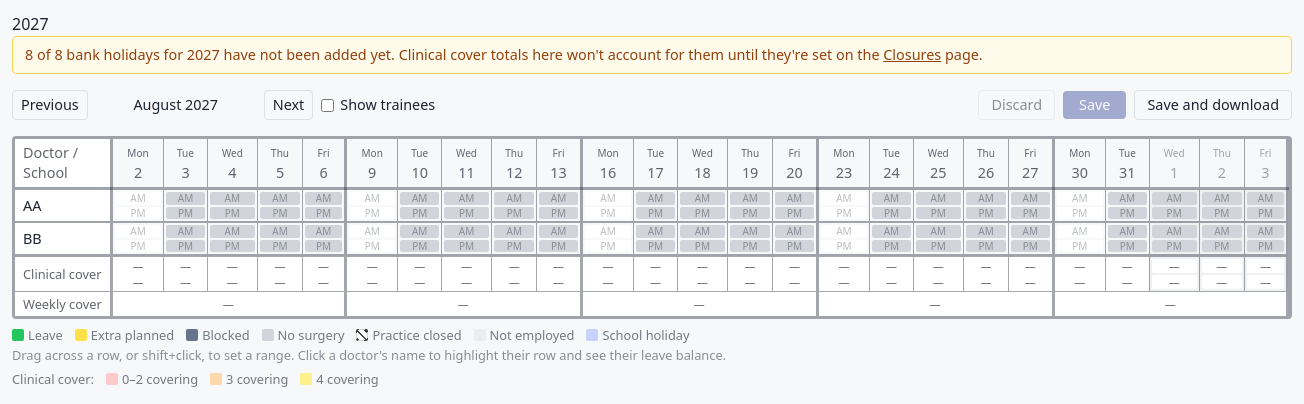
Test case: LeavePlanningPage › the shared session year › moves the shared year when a month step crosses New Year
Step 1. Click the button "Next" → (288, 105), box [264,90,313,120]
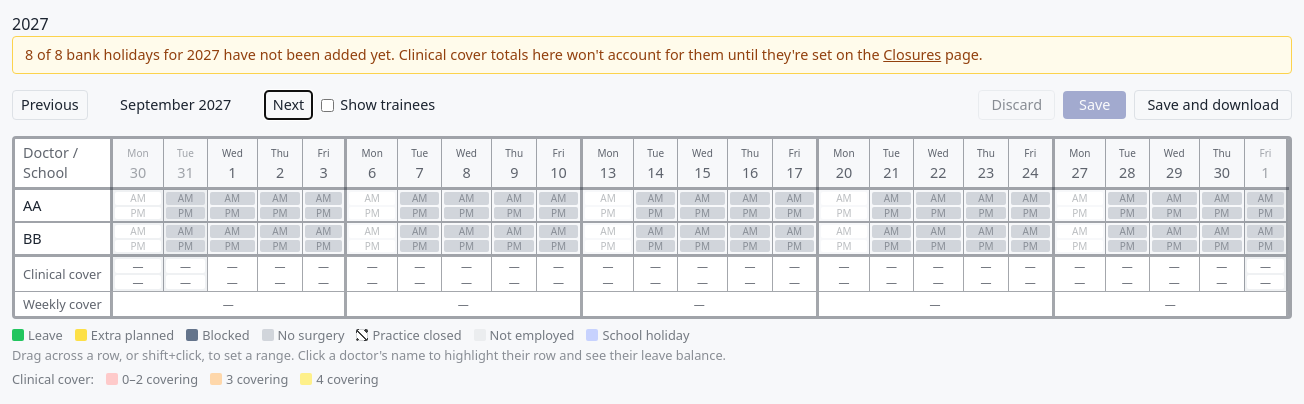
Step 2. Click the button "Next" → (288, 105), box [264,90,313,120]
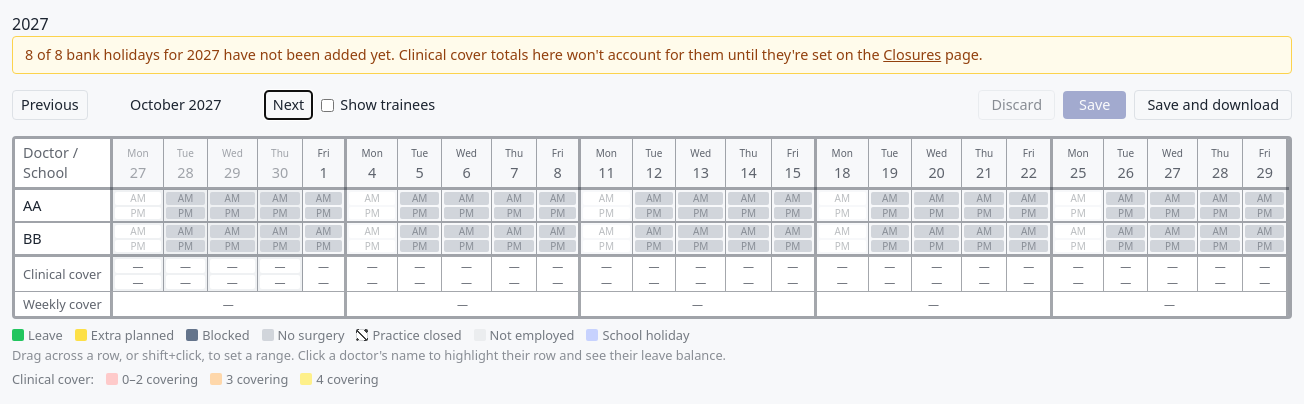
Step 3. Click the button "Next" → (288, 105), box [264,90,313,120]
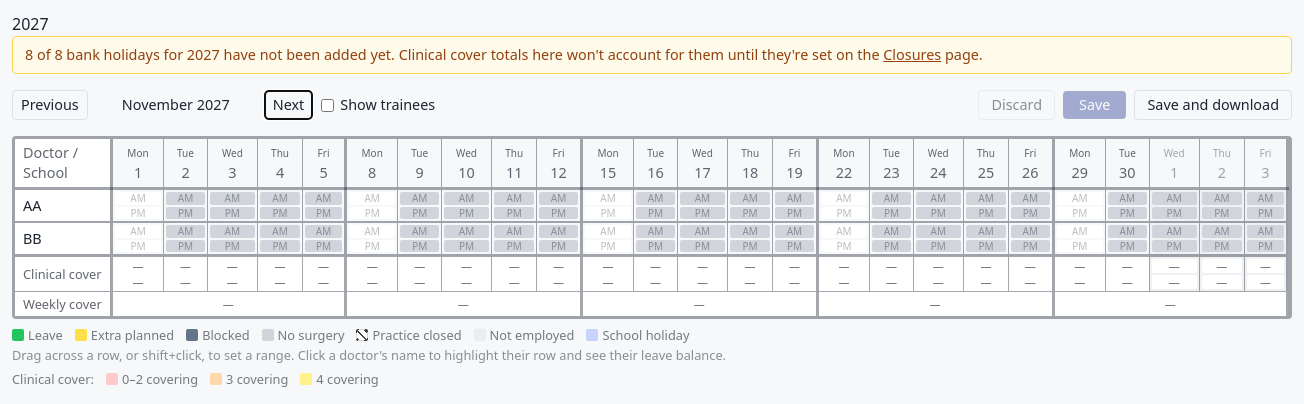
Step 4. Click the button "Next" → (288, 105), box [264,90,313,120]
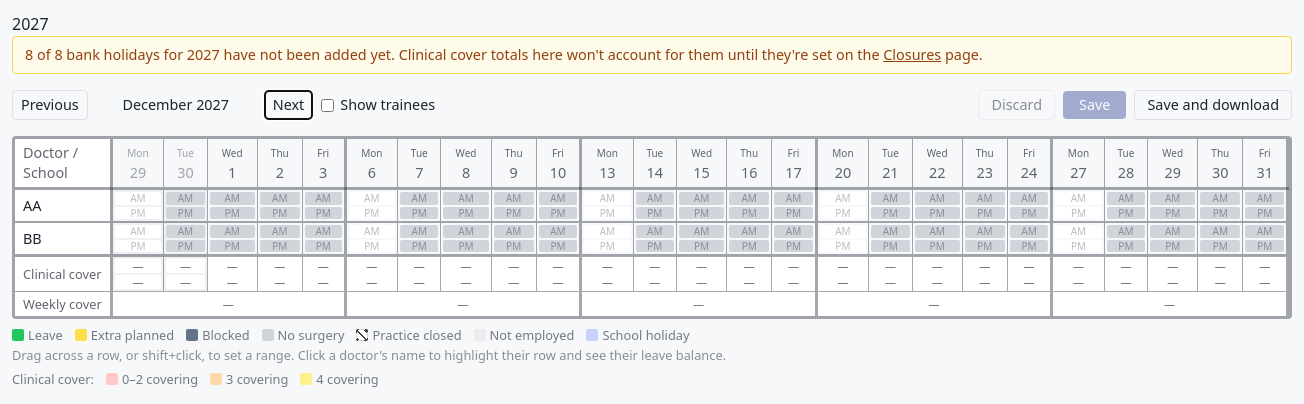
Step 5. Click the button "Next" → (288, 105), box [264,90,313,120]
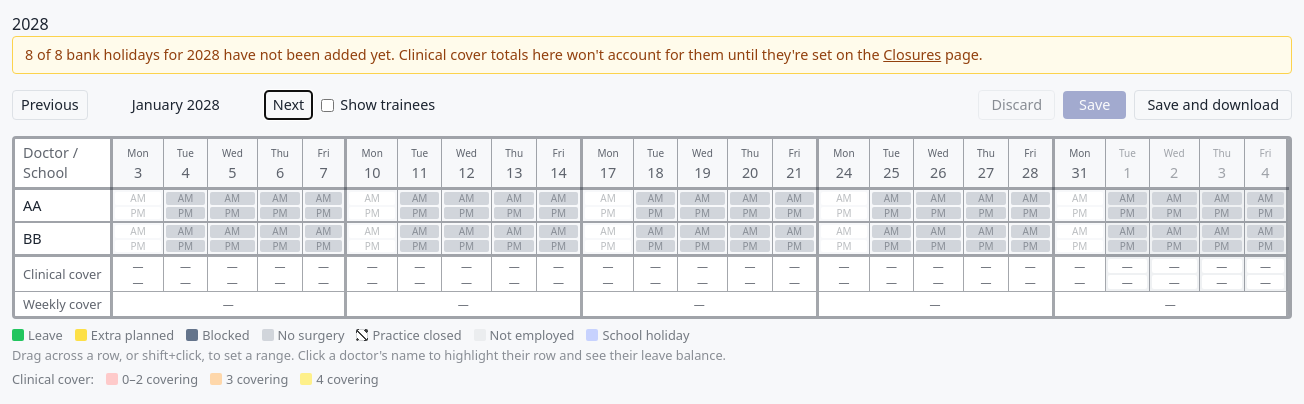
Expected: the text "January 2028" is shown, [132,95,220,114]
Expected: the text with test id "shared-year" reads "2028", [12,13,49,35]
Step 6. Click the button "Previous" → (50, 105), box [12,90,88,120]
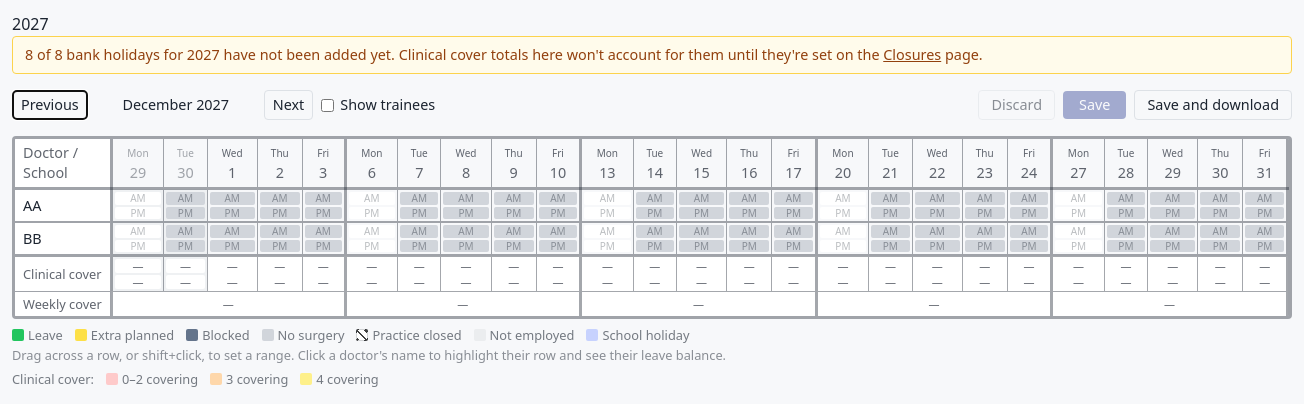
Expected: the text "December 2027" is shown, [122,95,229,114]
Expected: the text with test id "shared-year" reads "2027", [12,13,49,35]
